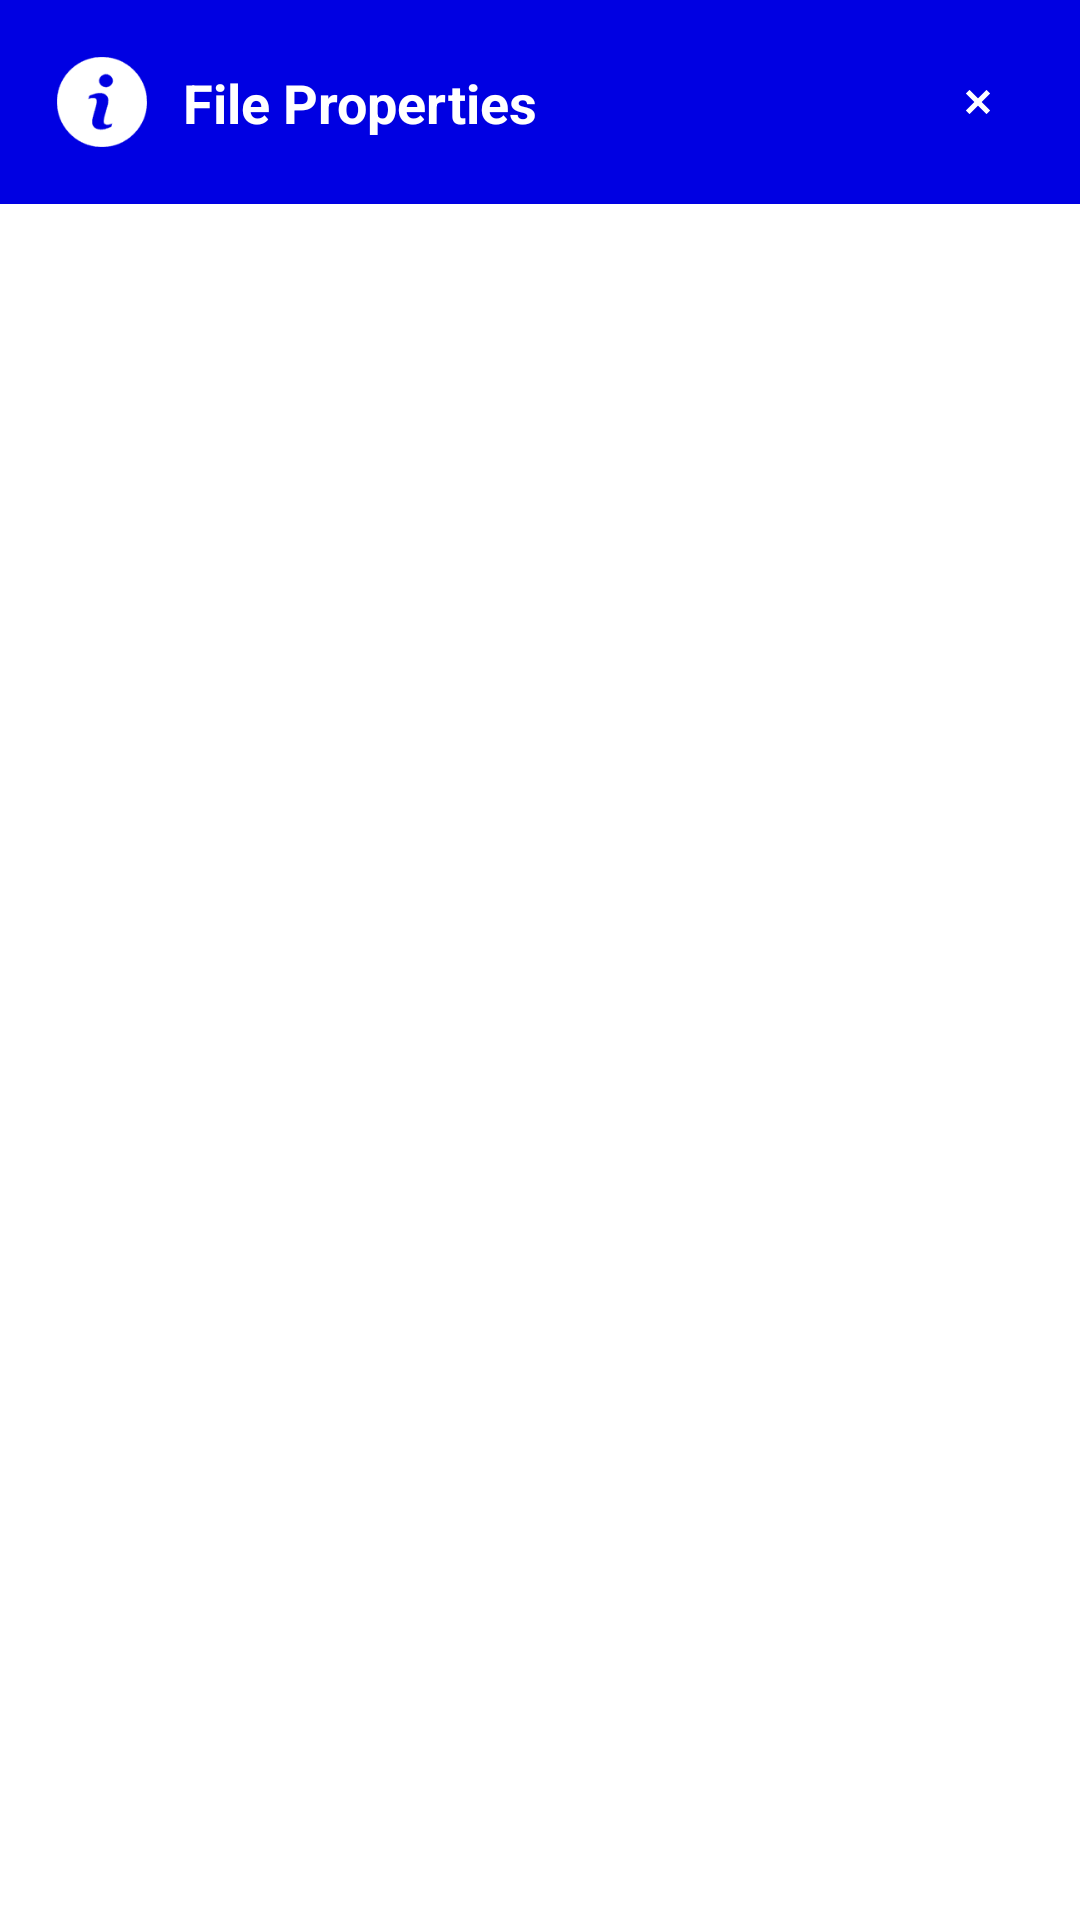

Locate icon controls on the screen. Image size 1080w x 1920h, boxes as (x1, y1, x2, y2).
close: (966, 90, 990, 114)
